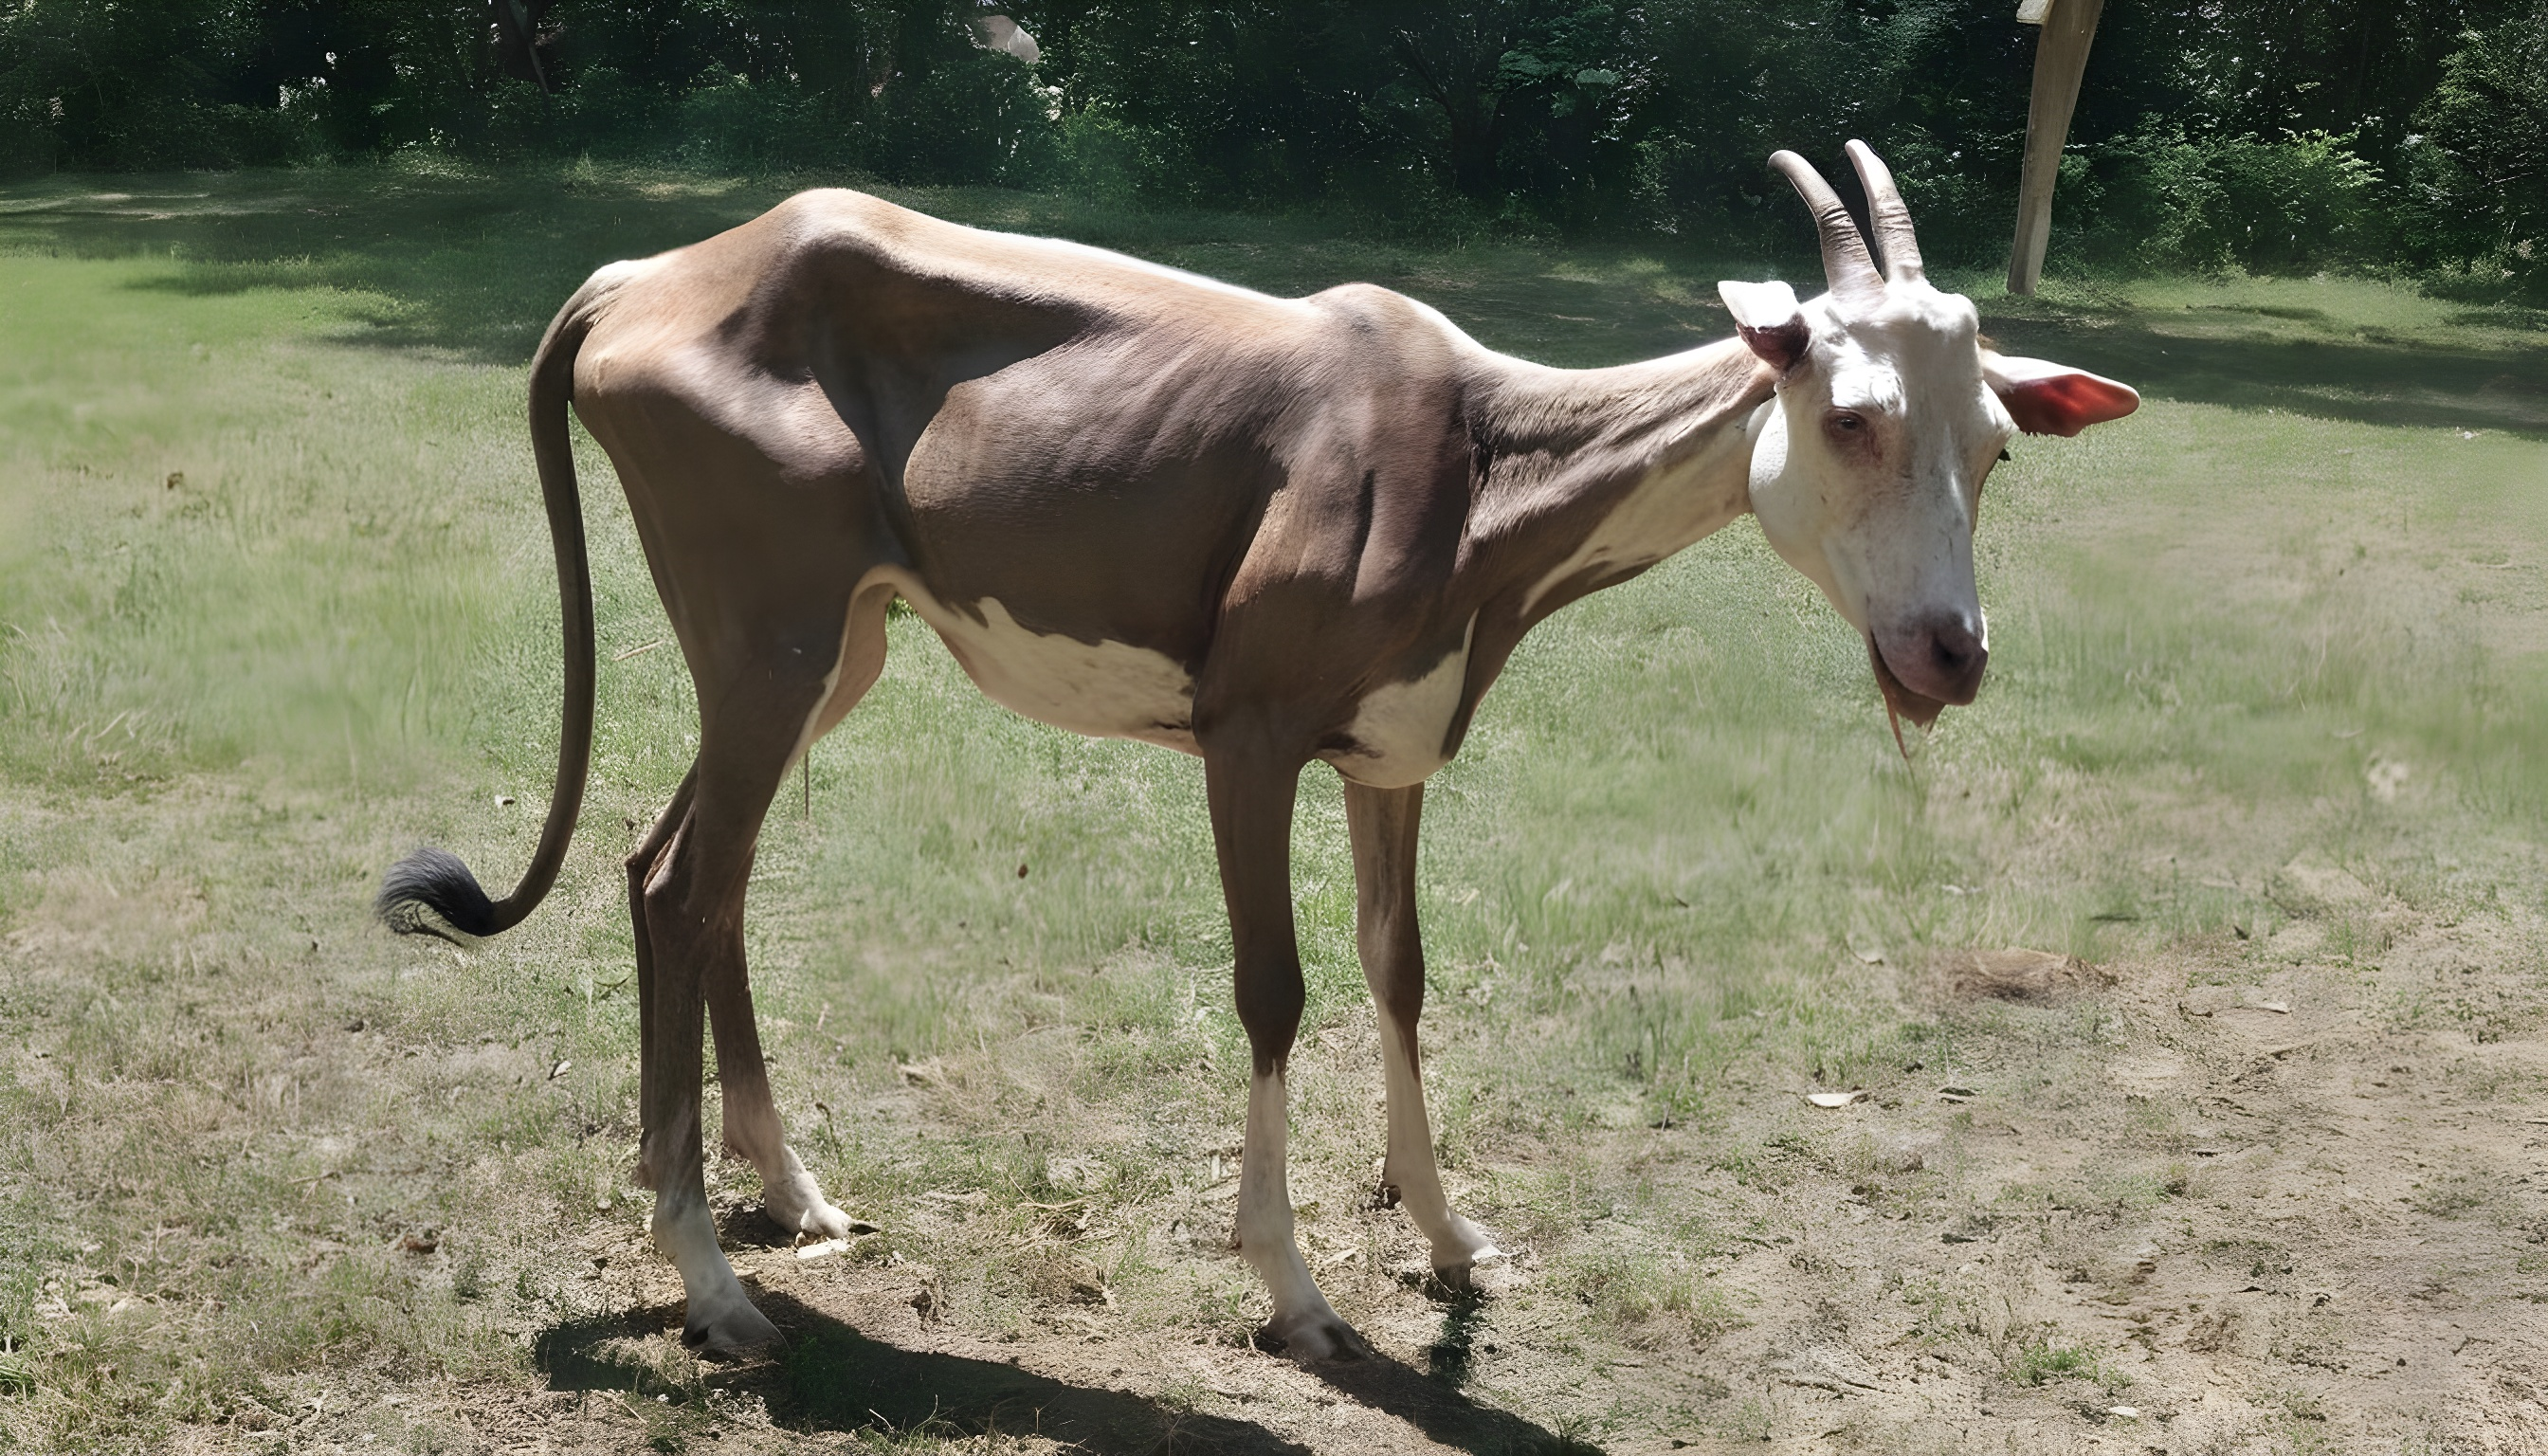ppr: (1860, 621, 1984, 724)
